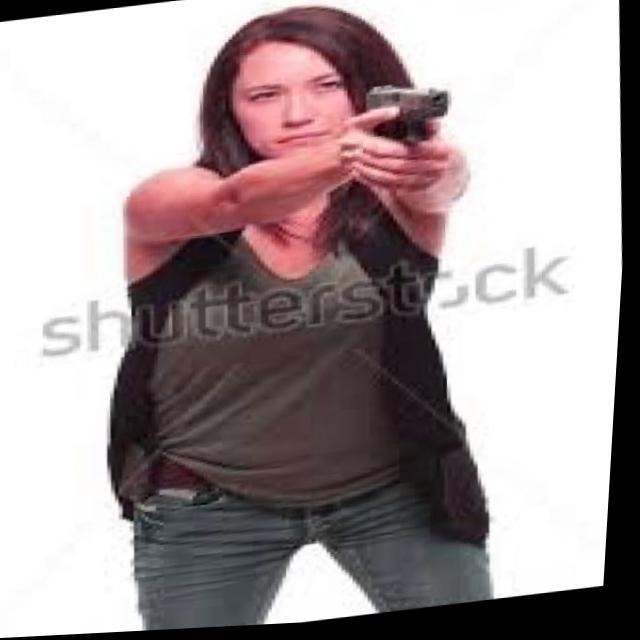weapon: (360, 80, 452, 155)
